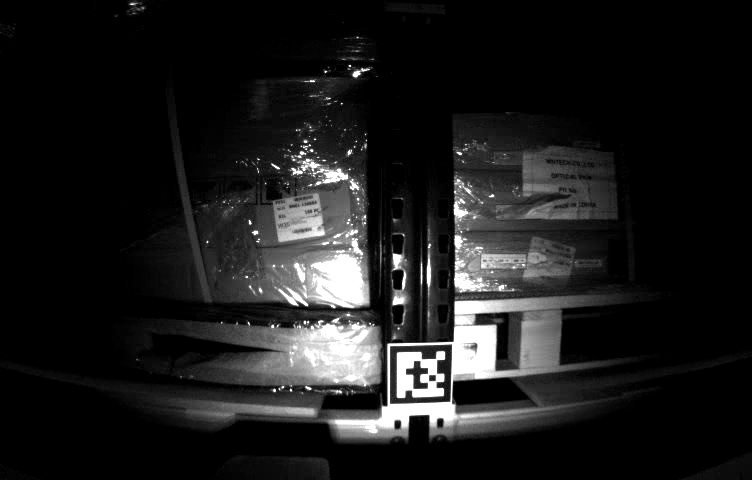True Barcode: (522, 234, 570, 291), (272, 193, 325, 238)
